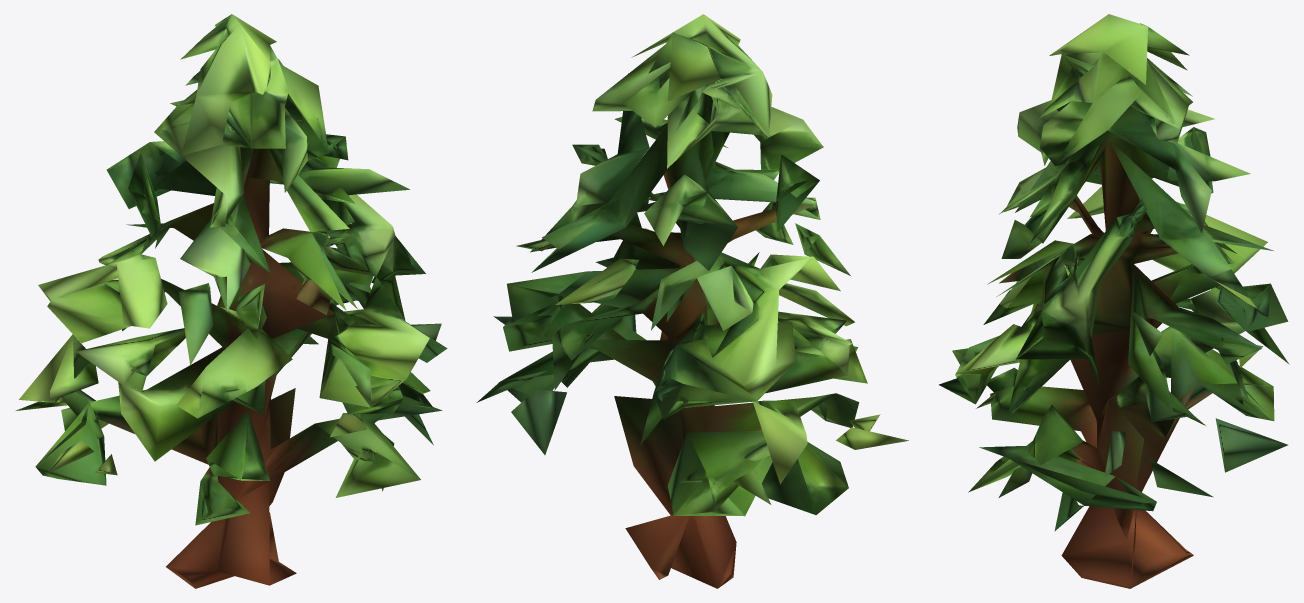
File: albero1.glb
The picture shows the model from 3 angles, left to right: view 1: azimuth 30°, elevation 25°; view 2: azimuth 150°, elevation 25°; view 3: azimuth 270°, elevation 25°; orthographic projection. The views are drawn at different scales.
Parts seen in each view (by area): view 1: tripo_node_a16e37c5-9d21-48d2-829b-5aa88b3515ba; view 2: tripo_node_a16e37c5-9d21-48d2-829b-5aa88b3515ba; view 3: tripo_node_a16e37c5-9d21-48d2-829b-5aa88b3515ba.
Boxes of the visible parts, bbox=[...] form: tripo_node_a16e37c5-9d21-48d2-829b-5aa88b3515ba: bbox=[15, 14, 447, 588]; tripo_node_a16e37c5-9d21-48d2-829b-5aa88b3515ba: bbox=[476, 14, 908, 588]; tripo_node_a16e37c5-9d21-48d2-829b-5aa88b3515ba: bbox=[939, 14, 1289, 588].
Size of the model in its own units: 0.764 by 1 by 0.5743.
1 material, 1 textured.
